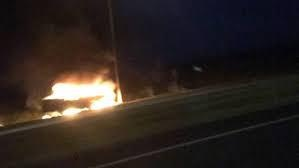fire: (42, 70, 124, 118)
